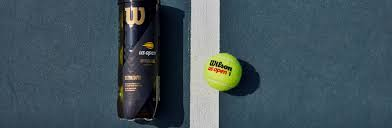tennis_ball: (203, 52, 242, 91)
